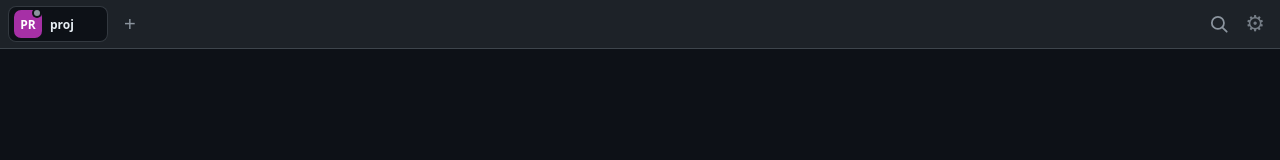
it: 칩에서 이름 고치기·닫기 › Escape 는 이름 변경을 버린다
Double-click the tab "proj".
double_click(62, 24)  # box x1=50 y1=16 x2=74 y2=32
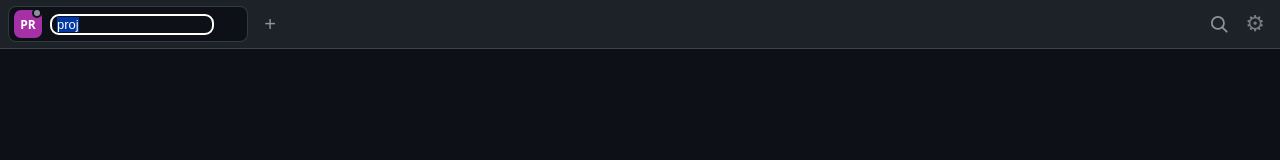
Replace the text in the field named "프로젝트 이름" with "버릴것" at (132, 24), box x1=50 y1=14 x2=214 y2=34
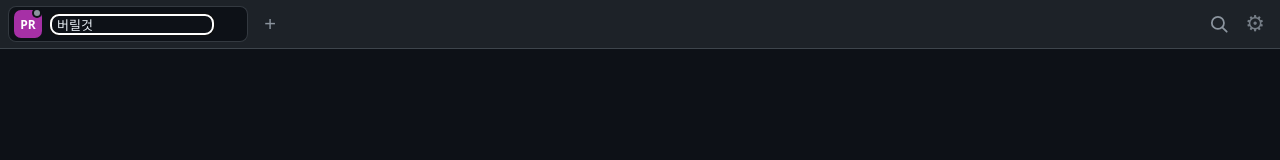
Press Escape in the field named "프로젝트 이름", box x1=50 y1=14 x2=214 y2=34
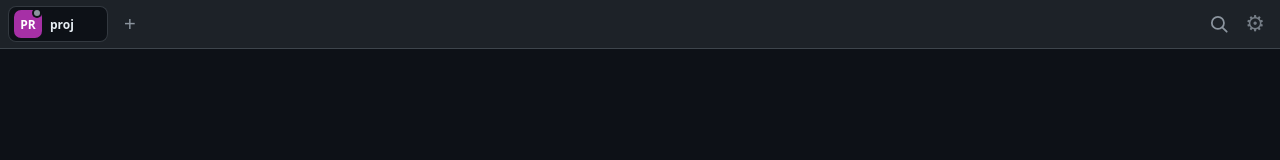
Result: the tab "proj" is shown at x1=50 y1=16 x2=74 y2=32
